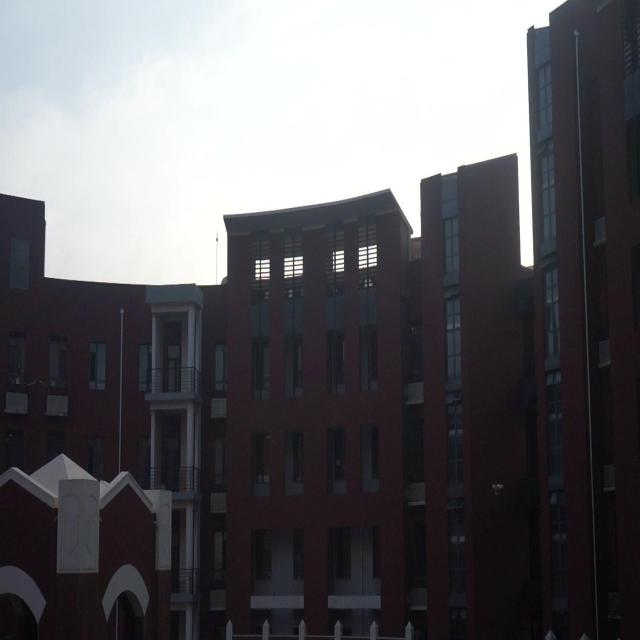drone: (488, 476, 504, 498)
